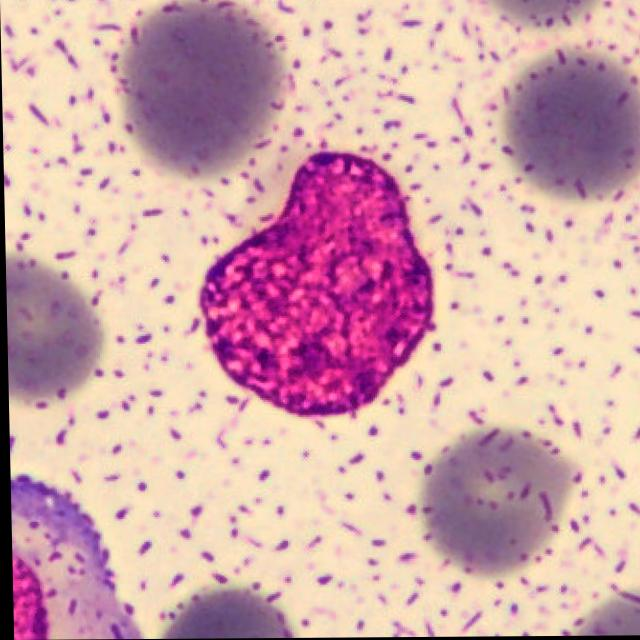Restos celulares: (197, 150, 435, 417)
